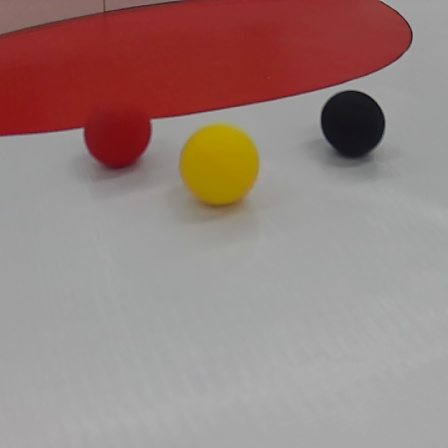black: (322, 85, 388, 156)
red: (82, 102, 154, 167)
red_base: (1, 0, 413, 135)
yellow: (172, 128, 263, 212)
